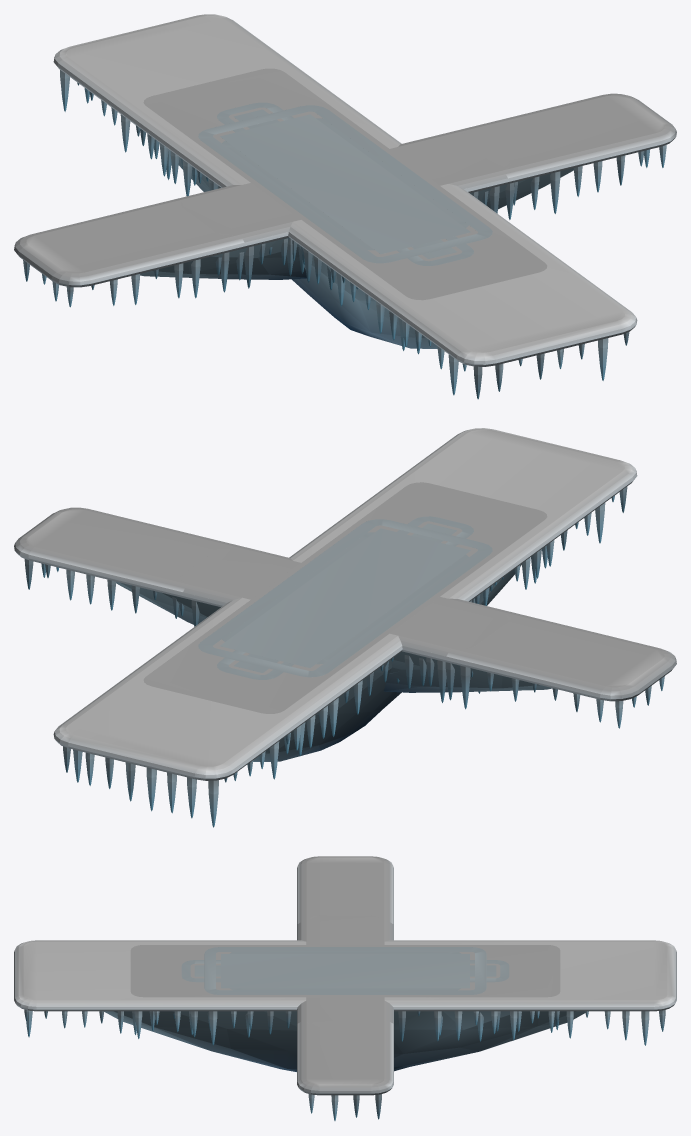
Rendered from glacier-4-XHlxuGoF.glb.
3 renders of one model, top to bottom at view 1: azimuth 30°, elevation 25°; view 2: azimuth 150°, elevation 25°; view 3: azimuth 270°, elevation 25°, orthographic. The views are drawn at different scales.
Visible parts, largest first — view 1: block_10x2x43#1, block_36x2x6#0, block_8x2x19_ice#0, block_9x2x29#0, block_18x2x6#0, block_4x20x22_ice#1, block_7x2x16_ice#1; view 2: block_10x2x43#1, block_36x2x6#0, block_8x2x19_ice#0, block_9x2x29#0, block_18x2x6#0, block_4x20x22_ice#1, block_7x2x16_ice#1; view 3: block_10x2x43#1, block_36x2x6#0, block_8x2x19_ice#0, block_9x2x29#0, block_18x2x6#0, block_7x2x16_ice#1, block_4x20x22_ice#1.
Boxes of the visible parts, x1=… form: block_10x2x43#1: x1=53, y1=14, x2=637, y2=399; block_36x2x6#0: x1=14, y1=93, x2=676, y2=307; block_8x2x19_ice#0: x1=198, y1=105, x2=492, y2=263; block_9x2x29#0: x1=140, y1=68, x2=547, y2=354; block_18x2x6#0: x1=180, y1=132, x2=514, y2=292; block_4x20x22_ice#1: x1=217, y1=102, x2=473, y2=266; block_7x2x16_ice#1: x1=222, y1=118, x2=468, y2=250; block_10x2x43#1: x1=53, y1=428, x2=637, y2=827; block_36x2x6#0: x1=14, y1=507, x2=676, y2=728; block_8x2x19_ice#0: x1=198, y1=519, x2=492, y2=677; block_9x2x29#0: x1=143, y1=482, x2=547, y2=756; block_18x2x6#0: x1=179, y1=546, x2=510, y2=709; block_4x20x22_ice#1: x1=217, y1=516, x2=473, y2=679; block_7x2x16_ice#1: x1=222, y1=532, x2=468, y2=664; block_10x2x43#1: x1=14, y1=940, x2=676, y2=1071; block_36x2x6#0: x1=297, y1=856, x2=393, y2=1120; block_8x2x19_ice#0: x1=204, y1=947, x2=486, y2=994; block_9x2x29#0: x1=130, y1=945, x2=560, y2=1041; block_18x2x6#0: x1=297, y1=915, x2=393, y2=1026; block_7x2x16_ice#1: x1=229, y1=952, x2=461, y2=990; block_4x20x22_ice#1: x1=181, y1=960, x2=509, y2=982.
Size of the model in its own units: 36.36 by 7.64 by 43.36.
